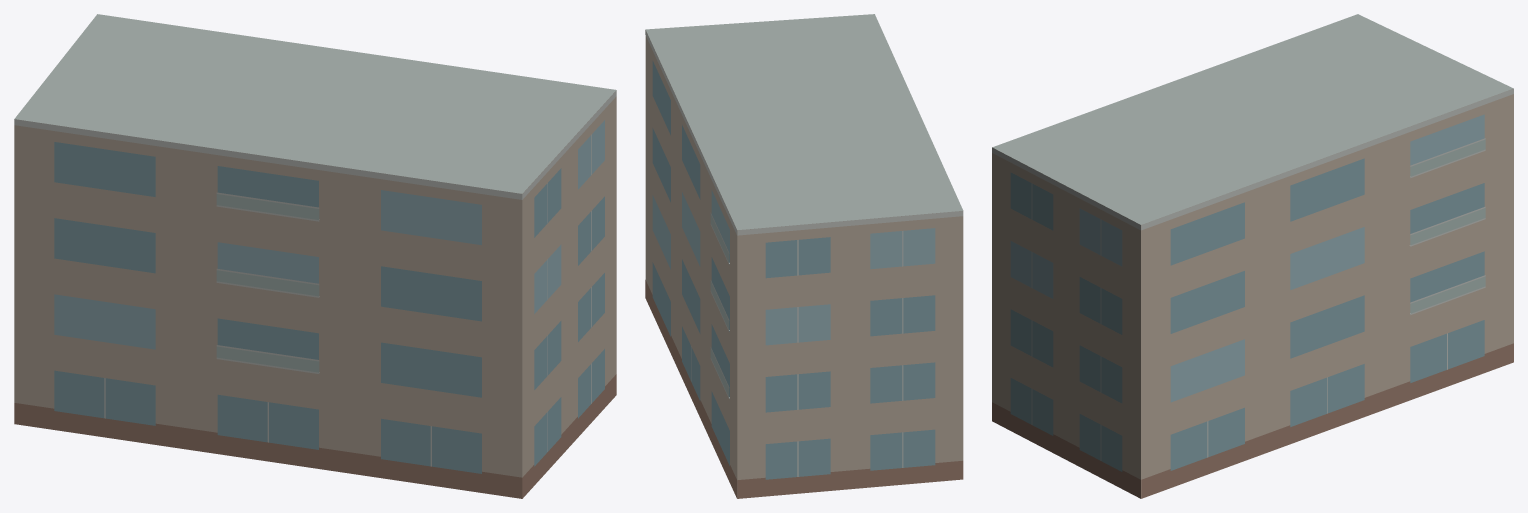
File: survey-upis-32955531.glb
The picture shows the model from 3 angles, left to right: view 1: azimuth 30°, elevation 25°; view 2: azimuth 150°, elevation 25°; view 3: azimuth 270°, elevation 25°; orthographic projection. The views are drawn at different scales.
Visible parts, largest first — view 1: survey-upis-32955531.tmp; view 2: survey-upis-32955531.tmp; view 3: survey-upis-32955531.tmp.
Part boxes in pixels (<box>): survey-upis-32955531.tmp: <box>14,14,616,498</box>; survey-upis-32955531.tmp: <box>645,14,963,498</box>; survey-upis-32955531.tmp: <box>992,14,1513,498</box>.
Size of the model in its own units: 20.17 by 12.2 by 21.07.
